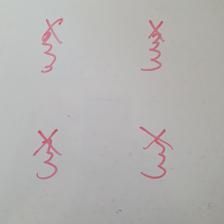protease-site: (139, 125, 173, 179), (32, 129, 61, 179), (40, 17, 63, 74), (142, 19, 165, 71)
